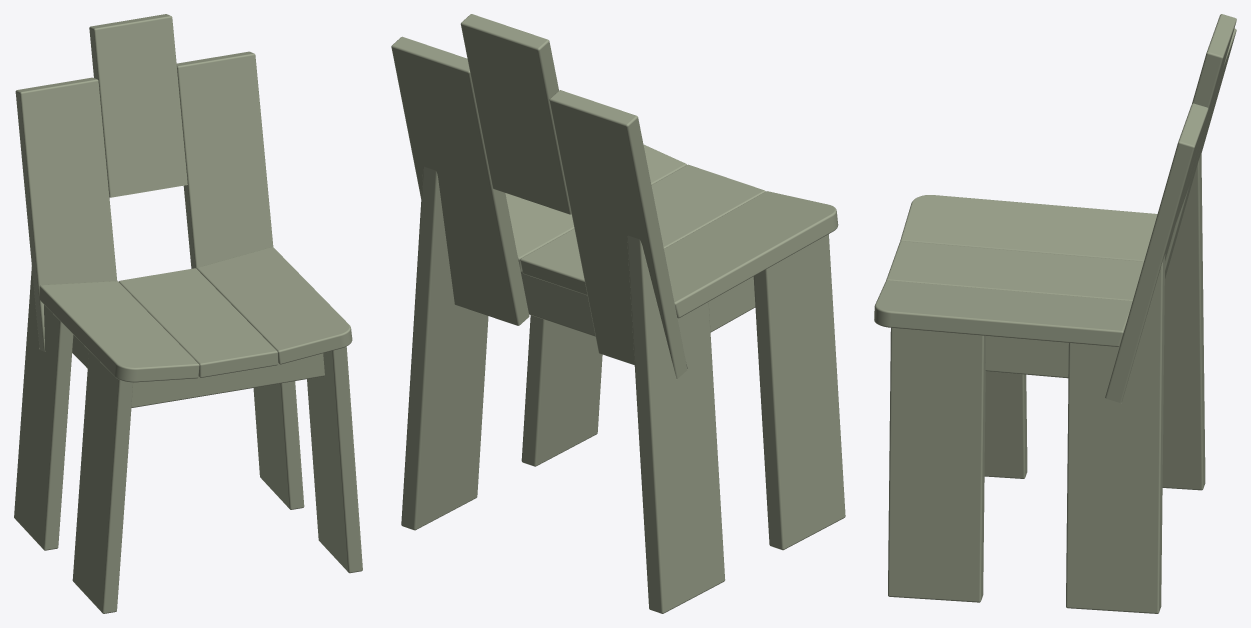
Rendered from rosemarylaq.glb.
The picture shows the model from 3 angles, left to right: view 1: azimuth 30°, elevation 25°; view 2: azimuth 150°, elevation 25°; view 3: azimuth 270°, elevation 25°; orthographic projection. The views are drawn at different scales.
Parts seen in each view (by area): view 1: Brep.090, Brep.092, Brep.091, Brep.094, Brep.093, Brep.136, Brep.089, Brep.100, Brep.088, Brep.095, Brep.096; view 2: Brep.093, Brep.094, Brep.095, Brep.090, Brep.092, Brep.091, Brep.089, Brep.088, Brep.100, Brep.136, Brep.099, Brep.098; view 3: Brep.095, Brep.088, Brep.089, Brep.136, Brep.093, Brep.100, Brep.092, Brep.094, Brep.097, Brep.091, Brep.090.
Boxes of the visible parts, bbox=[...] form: Brep.090: bbox=[15, 77, 117, 351]; Brep.092: bbox=[176, 51, 273, 268]; Brep.091: bbox=[89, 14, 187, 197]; Brep.094: bbox=[72, 351, 133, 613]; Brep.093: bbox=[14, 266, 73, 550]; Brep.136: bbox=[197, 247, 352, 364]; Brep.089: bbox=[39, 281, 199, 382]; Brep.100: bbox=[118, 268, 277, 377]; Brep.088: bbox=[307, 346, 362, 573]; Brep.095: bbox=[253, 381, 304, 509]; Brep.096: bbox=[131, 353, 324, 407]; Brep.093: bbox=[627, 235, 725, 613]; Brep.094: bbox=[753, 234, 845, 550]; Brep.095: bbox=[401, 166, 488, 530]; Brep.090: bbox=[549, 90, 687, 378]; Brep.092: bbox=[391, 36, 529, 325]; Brep.091: bbox=[460, 14, 571, 214]; Brep.089: bbox=[664, 191, 838, 318]; Brep.088: bbox=[521, 315, 602, 466]; Brep.100: bbox=[520, 164, 765, 295]; Brep.136: bbox=[505, 144, 686, 272]; Brep.099: bbox=[521, 271, 595, 336]; Brep.098: bbox=[708, 276, 755, 332]; Brep.095: bbox=[1066, 254, 1165, 613]; Brep.088: bbox=[888, 328, 985, 602]; Brep.089: bbox=[900, 195, 1157, 261]; Brep.136: bbox=[874, 280, 1132, 346]; Brep.093: bbox=[1162, 153, 1205, 490]; Brep.100: bbox=[886, 241, 1143, 300]; Brep.092: bbox=[1105, 103, 1208, 402]; Brep.094: bbox=[984, 371, 1027, 478]; Brep.097: bbox=[985, 336, 1068, 378]; Brep.091: bbox=[1176, 14, 1236, 221]; Brep.090: bbox=[1165, 28, 1236, 278].
Bounding box in the file's own units: 0.5385 × 0.8791 × 0.5575.
